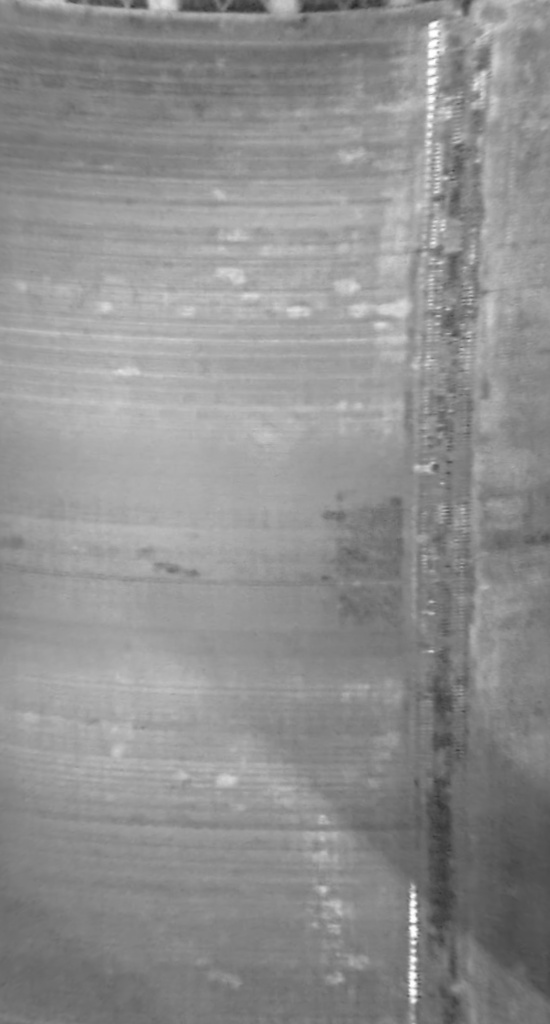splice: (400, 1, 497, 1022)
